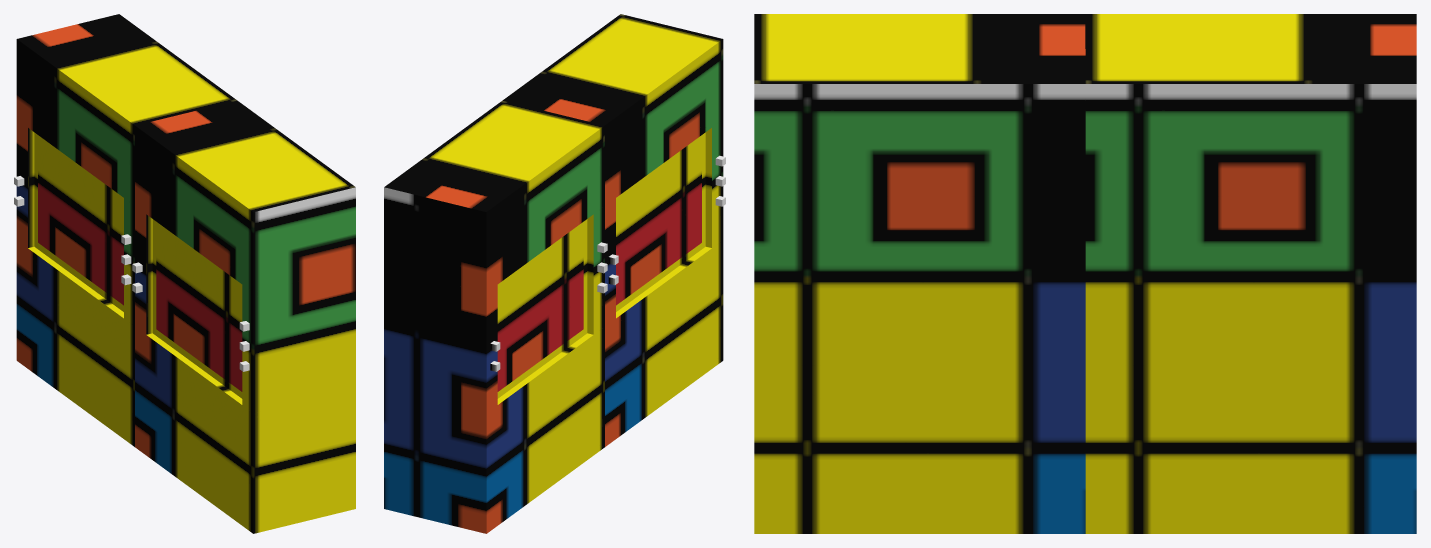
File: chemical_processor.obj
3 views of the same model, side by side, from view 1: azimuth 30°, elevation 25°; view 2: azimuth 150°, elevation 25°; view 3: azimuth 270°, elevation 25° (orthographic). The views are drawn at different scales.
Size of the model in its own units: 1.06 by 3 by 4.
